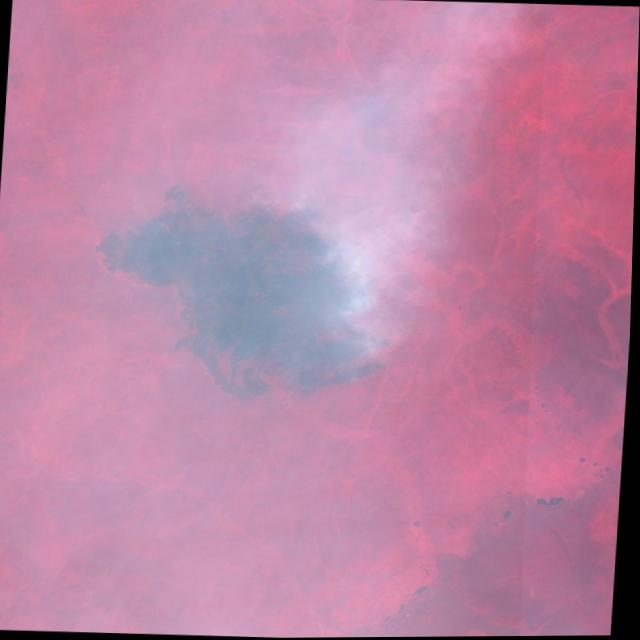fire: (228, 193, 404, 414)
